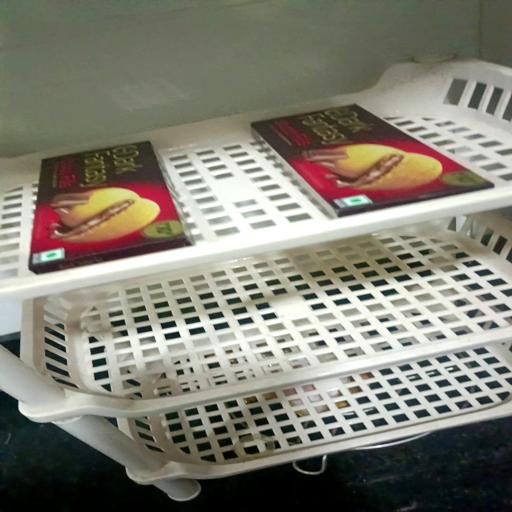Choco Fills: (256, 103, 498, 215), (29, 144, 189, 274)
